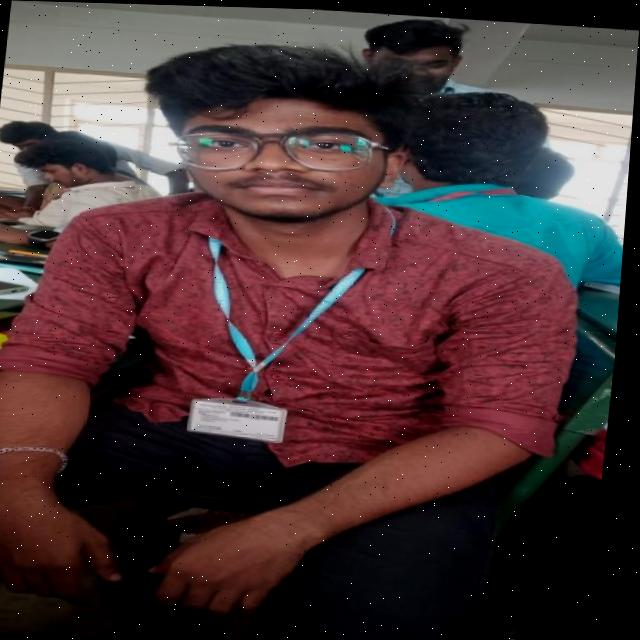id_card: (182, 215, 390, 456)
